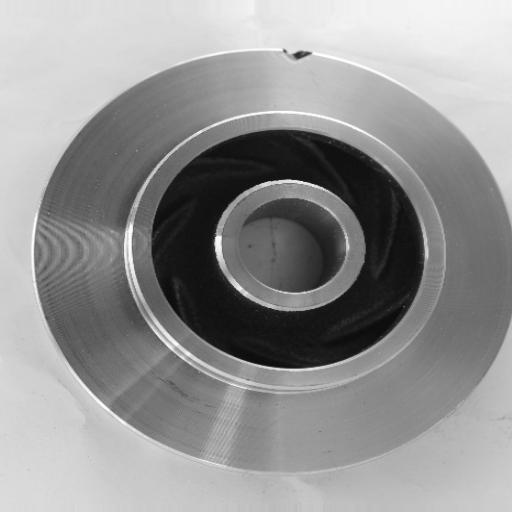crack: (273, 36, 323, 78)
unpolished_casting: (33, 49, 512, 477)
